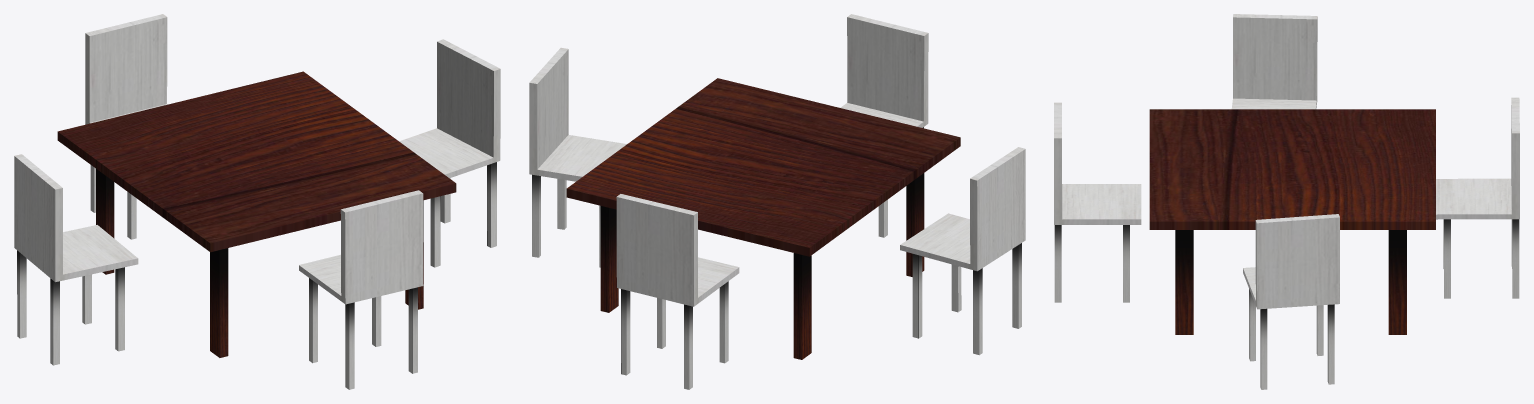
Rendered from tableset3.obj.
3 views of the same model, side by side, from view 1: azimuth 30°, elevation 25°; view 2: azimuth 150°, elevation 25°; view 3: azimuth 270°, elevation 25° (orthographic). The views are drawn at different scales.
Bounding box in the file's own units: 3.15 × 1.18 × 2.97.
Materials: 1 (1 with a texture image).
